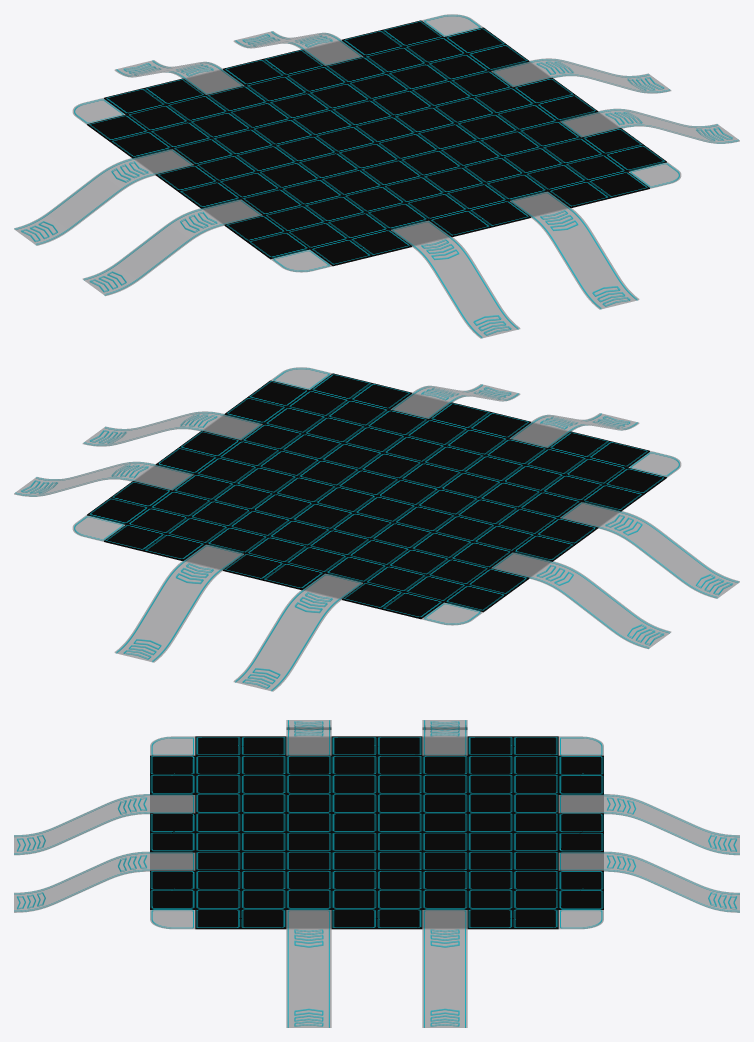
File: arena_l01_t01.fbx
The picture shows the model from 3 angles, top to bottom: view 1: azimuth 30°, elevation 25°; view 2: azimuth 150°, elevation 25°; view 3: azimuth 270°, elevation 25°; orthographic projection.
Visible parts, largest first — view 1: centerl01, Plane.004, Plane.005, Plane.007, Plane.006, pln1b2l01.003, pln1b2l01.001, pln1b2l01.002, pln1b2l01.010, pln1b2l01.011, pln1b2l01, pln1b2l01.009 (+21 smaller); view 2: centerl01, Plane, Plane.001, Plane.006, Plane.007, pln1b2l01.009, pln1b2l01.007, pln1b2l01.008, pln1b2l01.011, pln1b2l01.010, pln1b2l01, pln1b2l01.003 (+21 smaller); view 3: centerl01, Plane.002, Plane.003, Plane.001, Plane.004, Plane, Plane.005, pln1b2l01.004, pln1b2l01.006, pln1b2l01.005, pln1b2l01, pln1b2l01.010 (+21 smaller).
Part boxes in pixels (x1,y1,x2,y2): centerl01: (127, 37, 626, 249); Plane.004: (531, 207, 638, 309); Plane.005: (412, 236, 519, 338); Plane.007: (83, 208, 223, 295); Plane.006: (14, 158, 154, 245); pln1b2l01.003: (310, 229, 411, 266); pln1b2l01.001: (548, 171, 649, 207); pln1b2l01.002: (429, 200, 530, 236); pln1b2l01.010: (224, 215, 309, 259); pln1b2l01.011: (87, 114, 171, 158); pln1b2l01: (155, 165, 240, 208); pln1b2l01.009: (104, 78, 205, 114); centerl01: (127, 390, 626, 602); Plane: (234, 589, 341, 691); Plane.001: (115, 560, 222, 662); Plane.006: (530, 561, 670, 648); Plane.007: (599, 511, 739, 598); pln1b2l01.009: (342, 582, 443, 619); pln1b2l01.007: (104, 524, 205, 560); pln1b2l01.008: (223, 553, 324, 589); pln1b2l01.011: (444, 568, 529, 612); pln1b2l01.010: (582, 467, 666, 511); pln1b2l01: (513, 518, 598, 561); pln1b2l01.003: (548, 431, 649, 467); centerl01: (195, 755, 558, 909); Plane.002: (286, 928, 331, 1027); Plane.003: (422, 928, 467, 1027); Plane.001: (604, 852, 739, 912); Plane.004: (14, 852, 149, 912); Plane: (604, 794, 739, 854); Plane.005: (14, 794, 149, 854); pln1b2l01.004: (195, 909, 286, 929); pln1b2l01.006: (467, 909, 558, 929); pln1b2l01.005: (331, 909, 422, 929); pln1b2l01: (331, 736, 422, 755); pln1b2l01.010: (195, 736, 286, 755).
Bounding box in the file's own units: 3199 × 205 × 3199.
